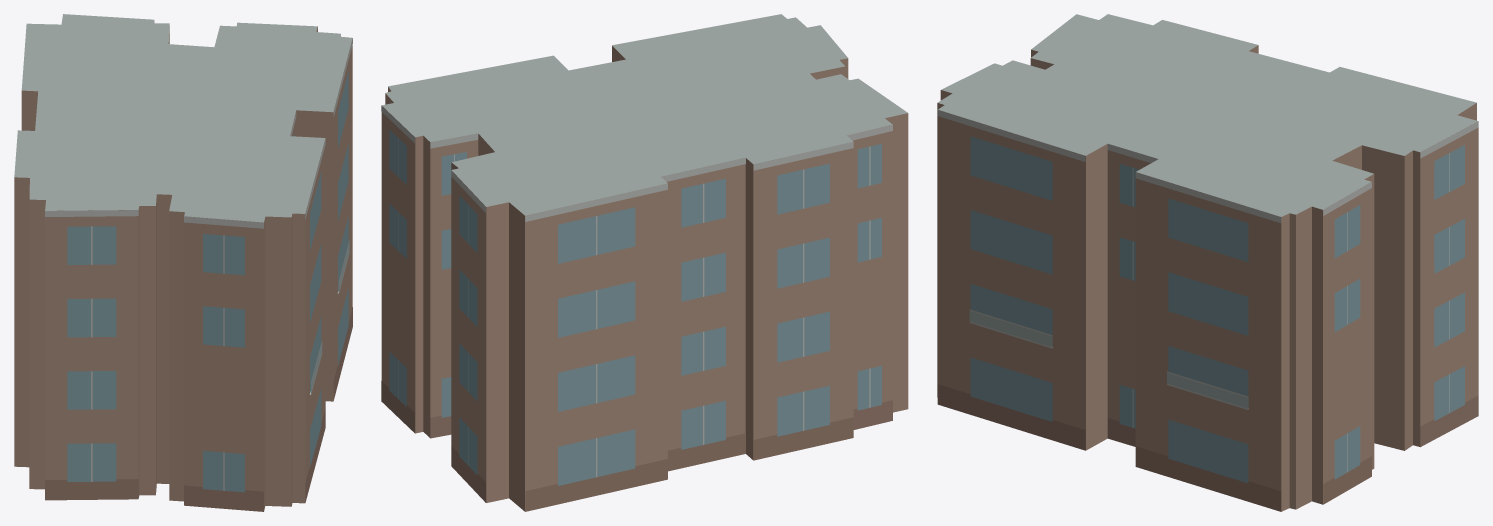
File: survey-upis-32905405.glb
3 renders of one model, left to right at view 1: azimuth 30°, elevation 25°; view 2: azimuth 150°, elevation 25°; view 3: azimuth 270°, elevation 25°, orthographic. The views are drawn at different scales.
Visible parts, largest first — view 1: survey-upis-32905405.tmp; view 2: survey-upis-32905405.tmp; view 3: survey-upis-32905405.tmp.
Boxes of the visible parts, box(x1,y1,x2,y2) form: survey-upis-32905405.tmp: box(14, 14, 352, 511); survey-upis-32905405.tmp: box(381, 14, 908, 511); survey-upis-32905405.tmp: box(937, 14, 1478, 511).
Bounding box in the file's own units: 16.77 × 11.35 × 18.89.
